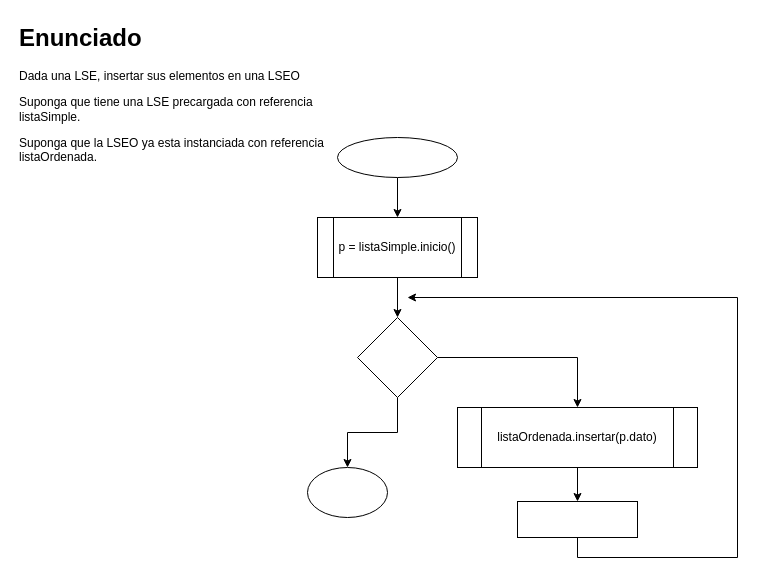
Image size: 763x583. Some labels were removed from this diagram. The shapes that lost their labels are listed below. From the top down, each one's box as (x1, y1, x2, y2) in pixels, then its label:
(356, 316, 438, 398): p != null
(516, 500, 638, 538): p = p.ps
